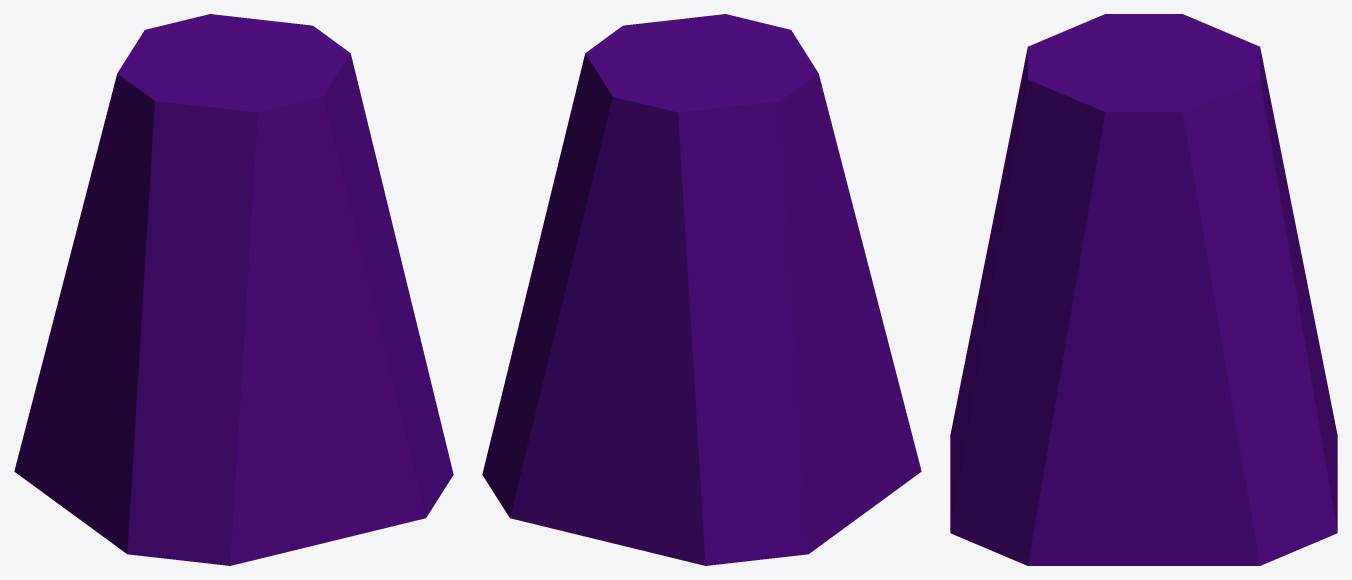
Rendered from robber.gltf.
The picture shows the model from 3 angles, left to right: view 1: azimuth 30°, elevation 25°; view 2: azimuth 150°, elevation 25°; view 3: azimuth 270°, elevation 25°; orthographic projection. The views are drawn at different scales.
Bounding box in the file's own units: 0.025 × 0.03 × 0.025.
